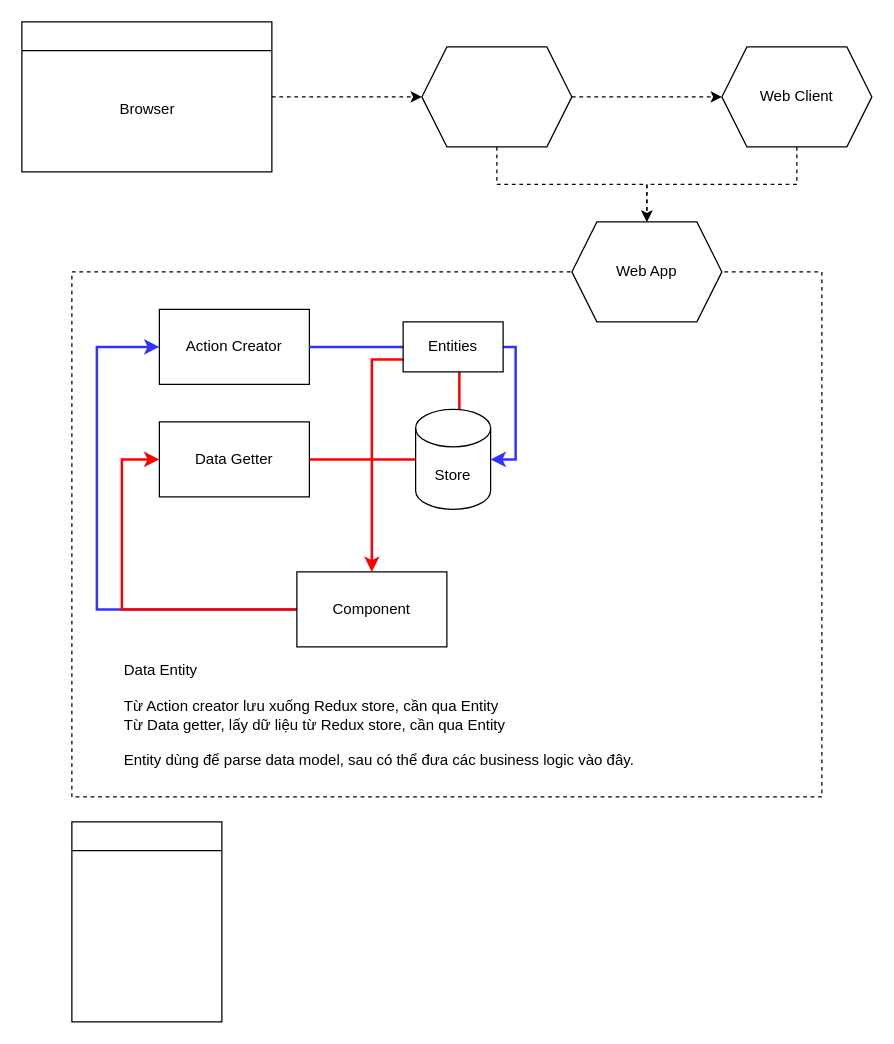
This 894x1044 diagram has some shape labels left out. The shapes that lost their labels are listed below. From the top down, each one's box as (x1, y1, x2, y2) in pixels, then its label:
(21, 21, 272, 172): https://loship.vn
(421, 46, 572, 147): Web Server
(71, 821, 222, 1022): Entity
